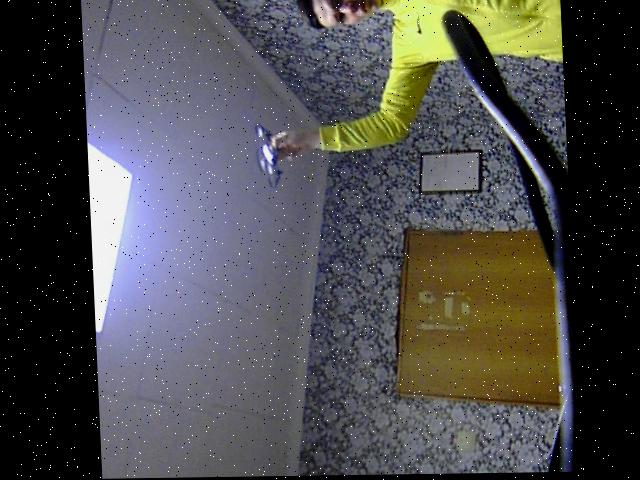drone: (244, 122, 287, 192)
